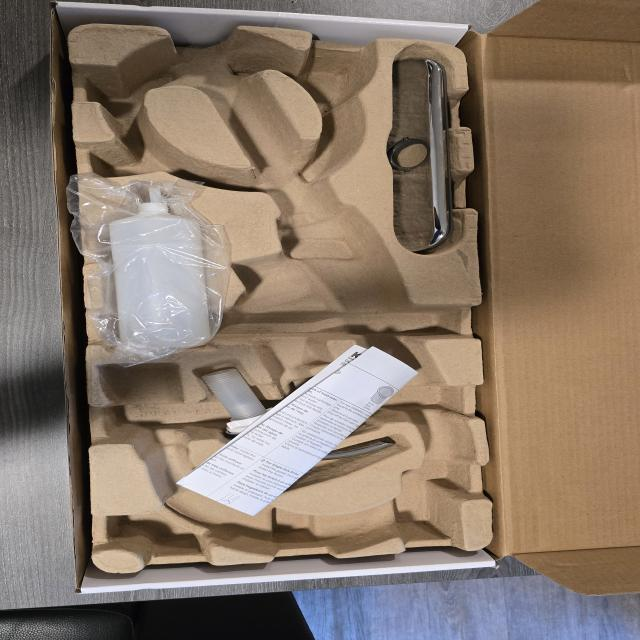1m: (106, 27, 478, 555)
2o: (198, 369, 395, 472)
3: (109, 185, 213, 353)
4: (387, 57, 455, 253)
5m: (305, 53, 366, 106)
6m: (88, 53, 180, 118)
7m: (88, 124, 226, 183)
8: (174, 344, 420, 517)
